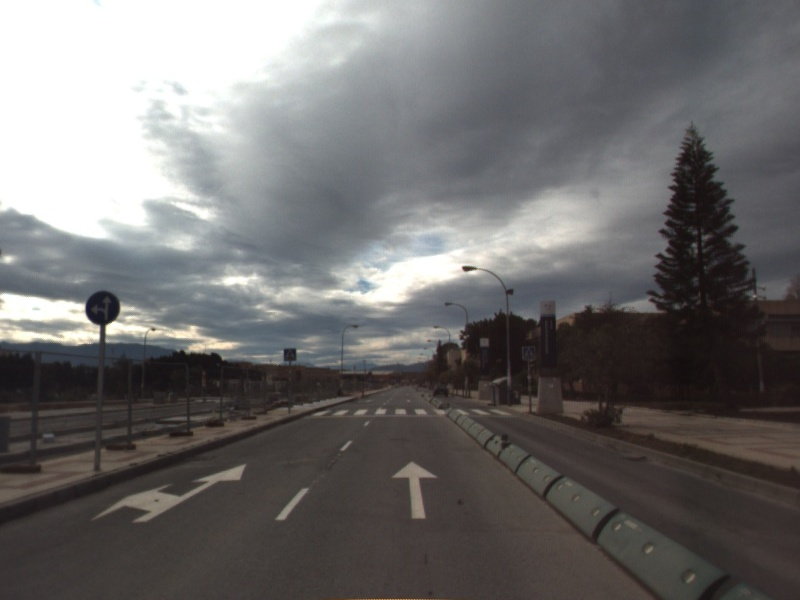STRAIGHT: (389, 459, 440, 521)
STRAIGHT_LEFT: (87, 462, 248, 524)
